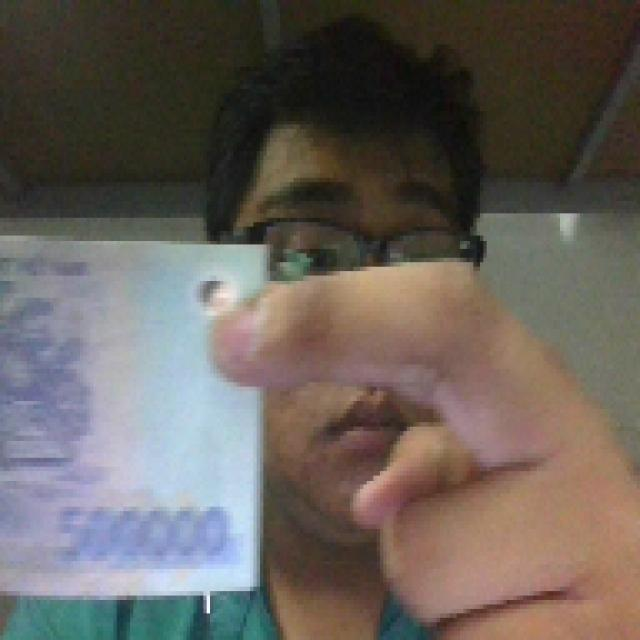500 000 VND: (0, 226, 270, 604)
